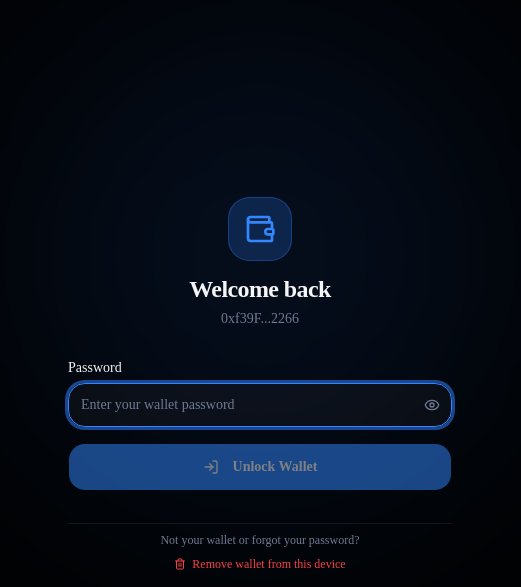
Test: UnlockPage › unlock button is enabled when password is entered
In the password field labelled "Password": (260, 404) left=68, top=382, right=452, bottom=426, type "secret"
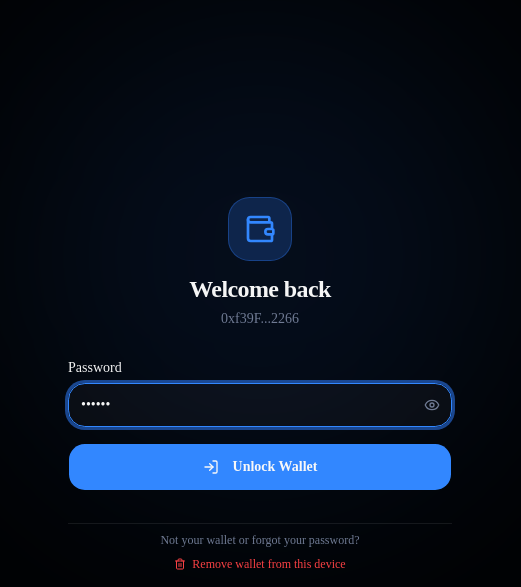
Result: the button "Unlock Wallet" is enabled at left=68, top=442, right=452, bottom=490
